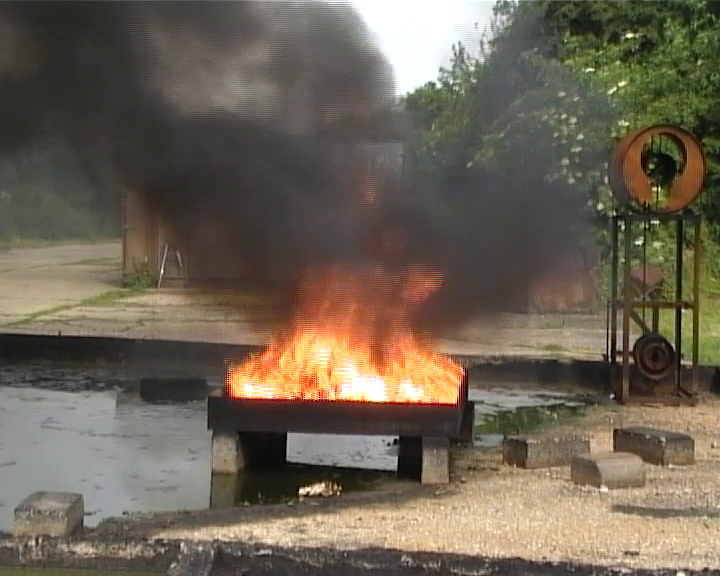fire: (231, 314, 461, 403), (298, 482, 340, 495)
